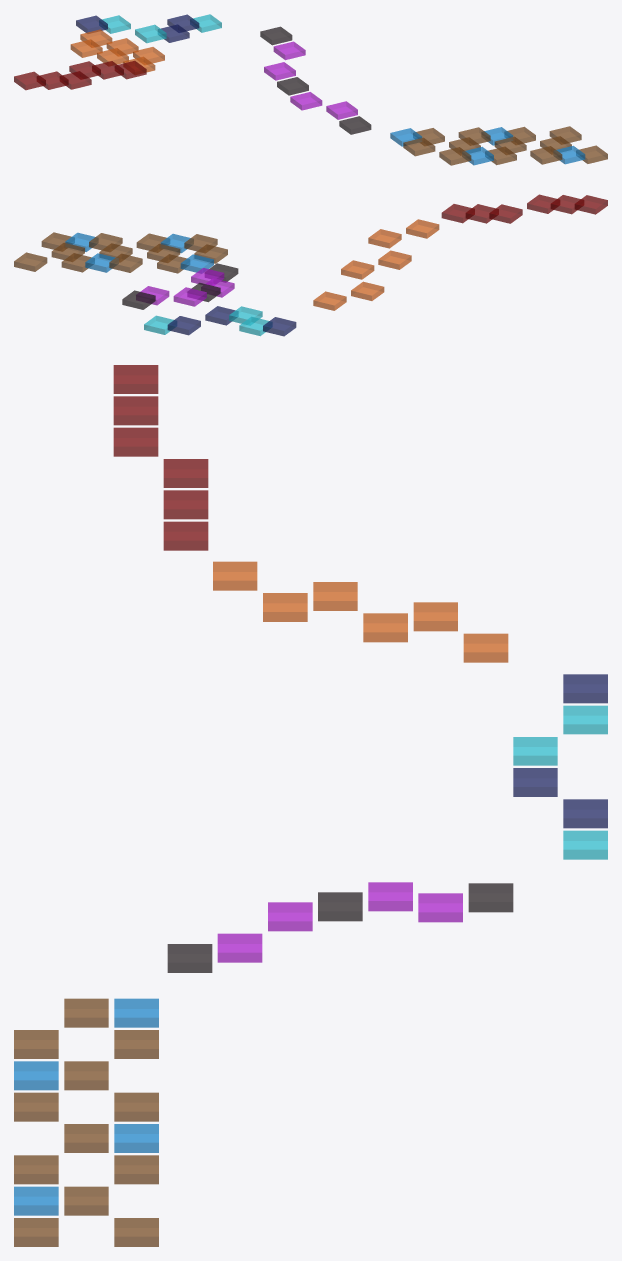
File: pattern maze_funguyz.glb
3 views of the same model, one above another, from view 1: azimuth 30°, elevation 25°; view 2: azimuth 150°, elevation 25°; view 3: azimuth 270°, elevation 25° (orthographic). The views are drawn at different scales.
Parts seen in each view (by area): view 1: Cube.013_passable, Cube.001_passable, Cube.001_Passable.004, Cube.007_passable, Cube.001_Passable.006, Cube.022_passable, Cube.014_passable.001, Cube.001_Passable.012, Cube.019_Passable, Cube.008_Passable, Cube.023_Passable, Cube.003_passable (+29 smaller); view 2: Cube.008_Passable, Cube.001.001_Passable, Cube.002_Passable, Cube.001_Passable.006, Cube.018_Passable, Cube.016_Passable, Cube.001_passable.001, Cube.014_Passable, Cube.019_Passable.001, Cube.001_passable.003, Cube.001_Passable, Cube.023_Passable (+29 smaller); view 3: Cube.003_passable, Cube.001_Passable.006, Cube.001_Passable, Cube.001.020_Passable, Cube.021_Passable, Cube.020_Passable, Cube..008_Passable, Cube.001_Passable.004, Cube.001_Passable.003, Cube.008_Passable, Cube.013_passable, Cube.001_passable.006 (+29 smaller).
Boxes of the visible parts, x1,y1,x2,y2 form: Cube.013_passable: (273, 41, 305, 60); Cube.001_passable: (439, 147, 471, 165); Cube.001_Passable.004: (290, 92, 322, 110); Cube.007_passable: (530, 146, 562, 164); Cube.001_Passable.006: (260, 26, 292, 45); Cube.022_passable: (339, 116, 371, 134); Cube.014_passable.001: (403, 137, 435, 156); Cube.001_Passable.012: (135, 24, 166, 43); Cube.019_Passable: (14, 71, 45, 90); Cube.008_Passable: (264, 62, 295, 80); Cube.023_Passable: (70, 39, 102, 57); Cube.003_passable: (326, 101, 357, 119); Cube.008_Passable: (173, 287, 206, 306); Cube.001.001_Passable: (341, 260, 374, 279); Cube.002_Passable: (489, 204, 522, 223); Cube.001_Passable.006: (122, 290, 155, 309); Cube.018_Passable: (368, 229, 401, 248); Cube.016_Passable: (406, 219, 439, 238); Cube.001_passable.001: (109, 253, 142, 272); Cube.014_Passable: (263, 317, 296, 336); Cube.019_Passable.001: (378, 250, 411, 269); Cube.001_passable.003: (14, 252, 47, 271); Cube.001_Passable: (313, 291, 346, 310); Cube.023_Passable: (351, 281, 384, 300); Cube.003_passable: (217, 933, 262, 962); Cube.001_Passable.006: (468, 883, 513, 912); Cube.001_Passable: (463, 633, 508, 662); Cube.001.020_Passable: (113, 427, 158, 456); Cube.021_Passable: (163, 521, 208, 550); Cube.020_Passable: (163, 490, 208, 519); Cube..008_Passable: (113, 396, 158, 425); Cube.001_Passable.004: (268, 902, 312, 931); Cube.001_Passable.003: (318, 892, 362, 921); Cube.008_Passable: (368, 882, 412, 911); Cube.013_passable: (418, 893, 462, 922); Cube.001_passable.006: (563, 830, 607, 859).
Size of what is drawn, in the model's own units: 110 by 36.02 by 53.28.
2 materials, 2 textured.
